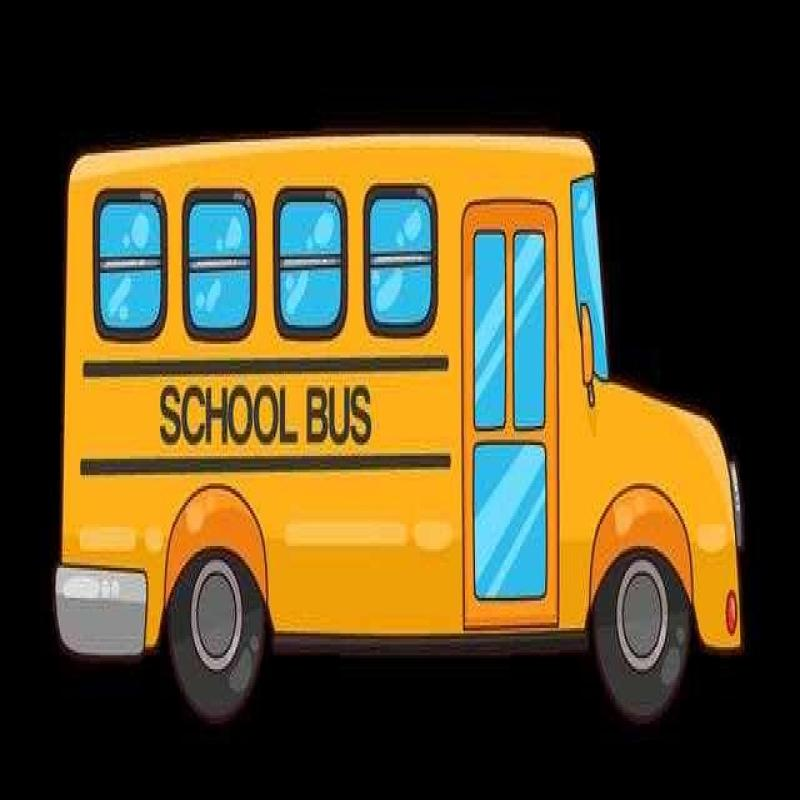bus: (59, 130, 758, 739)
